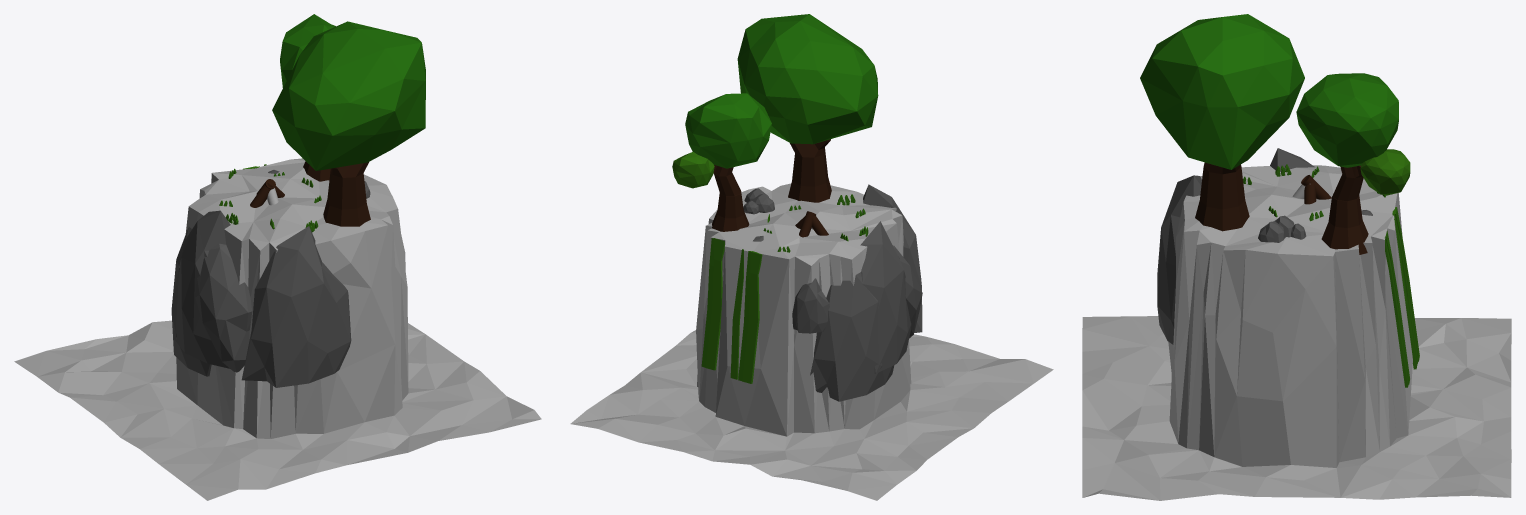
File: Island_lp.obj
The picture shows the model from 3 angles, left to right: view 1: azimuth 30°, elevation 25°; view 2: azimuth 150°, elevation 25°; view 3: azimuth 270°, elevation 25°; orthographic projection. The views are drawn at different scales.
Visible parts, largest first — view 1: Plane, Cylinder.001_Cylinder.005, Icosphere.004, Icosphere.005, Icosphere.003, Tree_Cylinder, Icosphere.006; view 2: Plane, Cylinder.001_Cylinder.005, Tree_Cylinder, Icosphere.006, Icosphere.003, Cube.010_Cube.011, Cube.011_Cube.012, Icosphere.007, Icosphere.004, Icosphere.005; view 3: Plane, Cylinder.001_Cylinder.005, Tree_Cylinder, Icosphere.004, Cube.010_Cube.011, Cube.011_Cube.012, Icosphere.003.
Boxes of the visible parts, x1=… form: Plane: x1=14, y1=158, x2=541, y2=500; Cylinder.001_Cylinder.005: x1=272, y1=21, x2=425, y2=226; Icosphere.004: x1=241, y1=226, x2=351, y2=387; Icosphere.005: x1=195, y1=243, x2=252, y2=372; Icosphere.003: x1=174, y1=210, x2=230, y2=368; Tree_Cylinder: x1=280, y1=14, x2=335, y2=181; Icosphere.006: x1=171, y1=227, x2=211, y2=376; Plane: x1=570, y1=183, x2=1053, y2=500; Cylinder.001_Cylinder.005: x1=737, y1=14, x2=878, y2=202; Tree_Cylinder: x1=672, y1=93, x2=771, y2=231; Icosphere.006: x1=810, y1=272, x2=894, y2=401; Icosphere.003: x1=860, y1=221, x2=911, y2=373; Cube.010_Cube.011: x1=730, y1=249, x2=762, y2=383; Cube.011_Cube.012: x1=701, y1=238, x2=724, y2=370; Icosphere.007: x1=792, y1=278, x2=829, y2=333; Icosphere.004: x1=863, y1=184, x2=922, y2=332; Icosphere.005: x1=893, y1=245, x2=922, y2=338; Plane: x1=1082, y1=165, x2=1511, y2=500; Cylinder.001_Cylinder.005: x1=1140, y1=14, x2=1304, y2=231; Tree_Cylinder: x1=1296, y1=73, x2=1410, y2=254; Icosphere.004: x1=1157, y1=175, x2=1201, y2=344; Cube.010_Cube.011: x1=1392, y1=207, x2=1419, y2=369; Cube.011_Cube.012: x1=1385, y1=230, x2=1409, y2=387; Icosphere.003: x1=1270, y1=148, x2=1314, y2=171.
Size of the model in its own units: 72.31 by 78.25 by 72.25.
